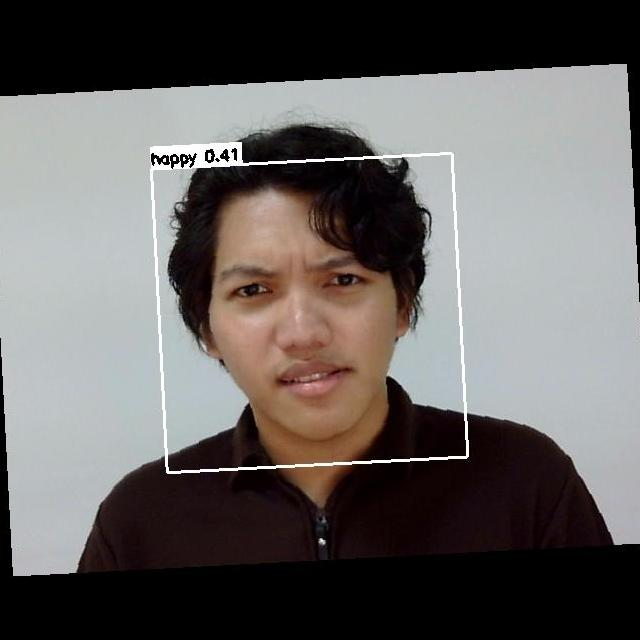Angry: (215, 243, 413, 407)
